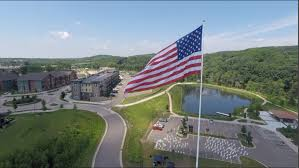Flag: (123, 26, 202, 98)
